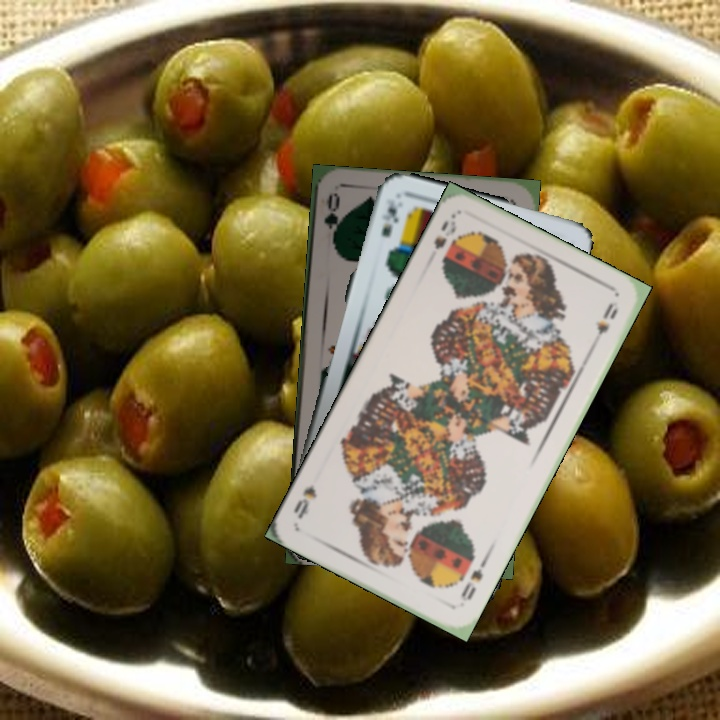EK: (378, 199, 399, 240)
GO: (320, 190, 343, 250)
SO: (457, 555, 490, 603), (430, 211, 460, 253)
